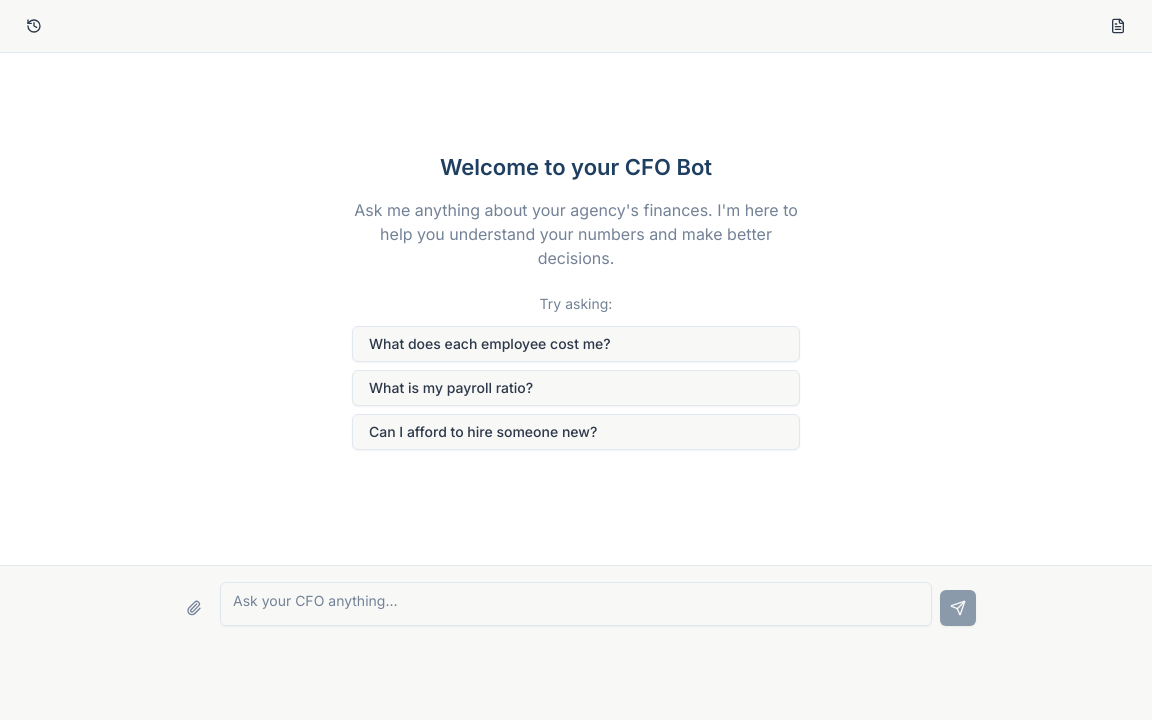
ChatClient Integration › Empty State › pre-fills input when example question is clicked
Step 1. Click the button "What does each employee cost me?" → (576, 344), box 352,326 -> 800,362
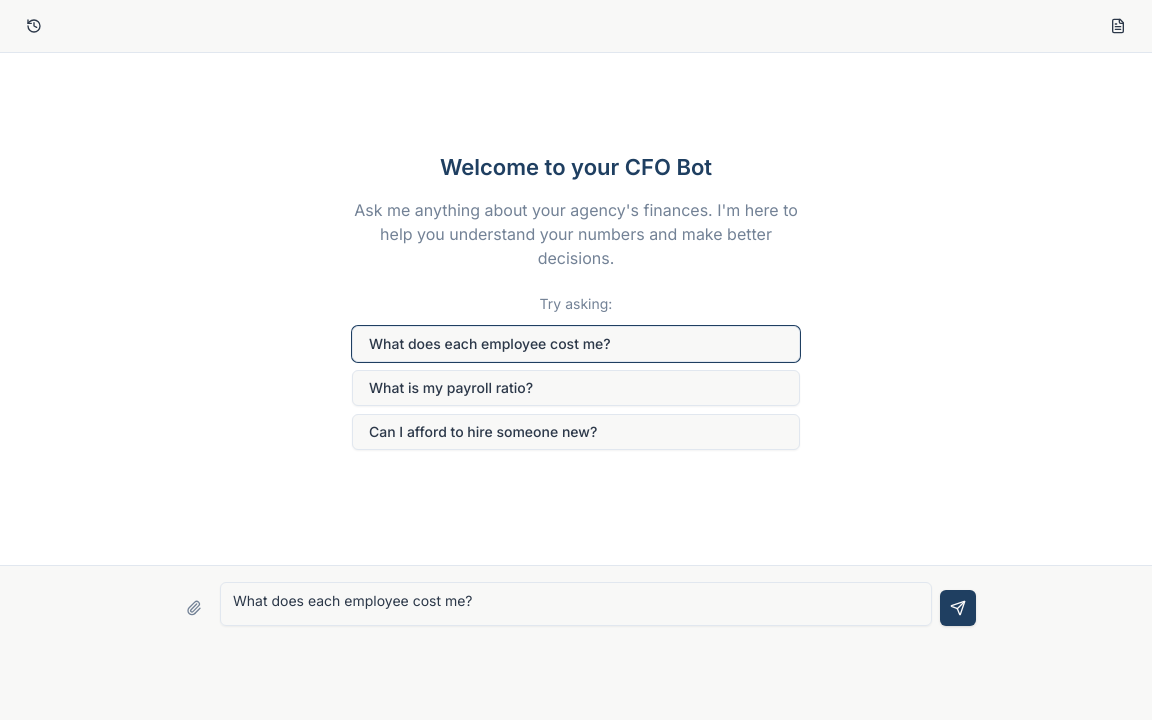
Expected: the text box with placeholder "Ask your CFO anything..." holds "What does each employee cost me?", 220,582 -> 932,626
